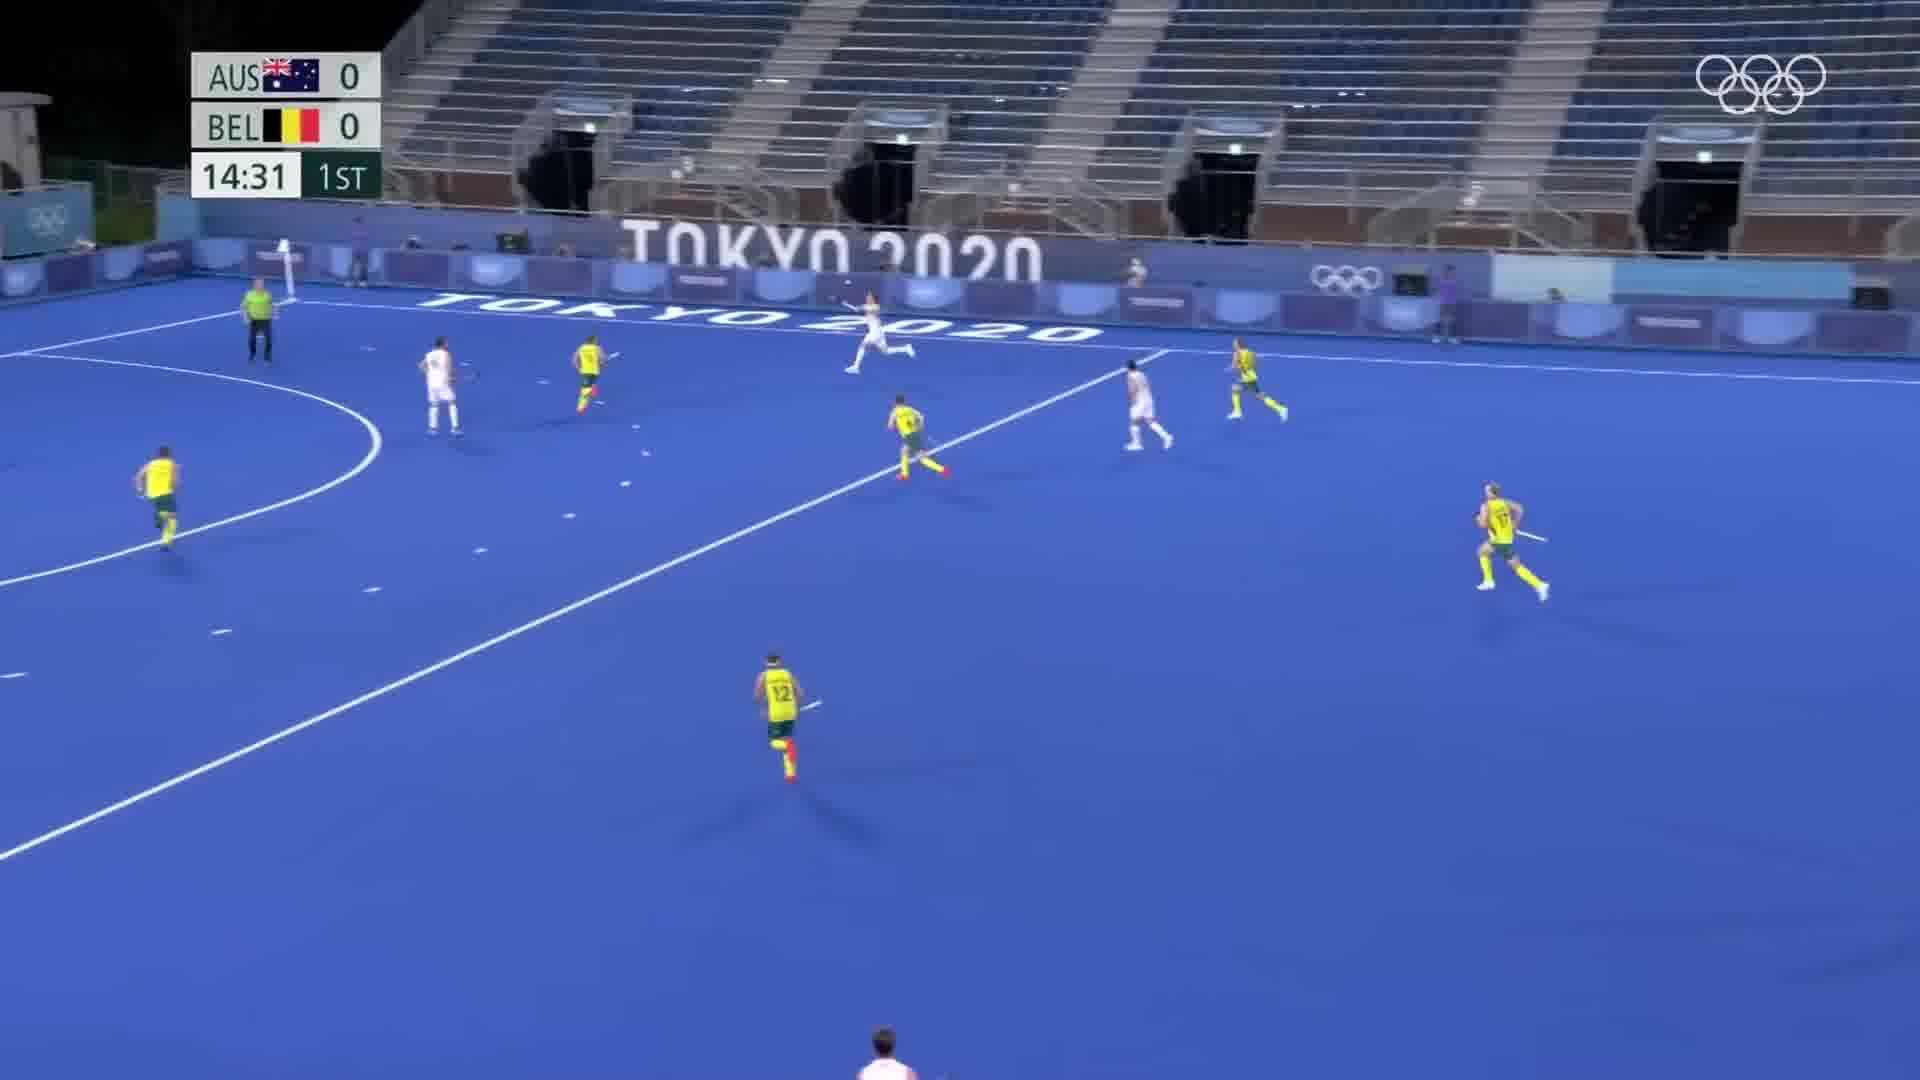ball: (837, 270, 855, 293)
